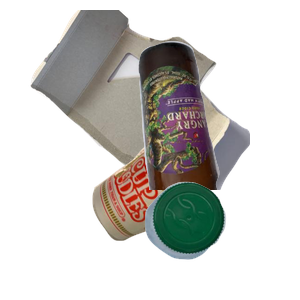glass: (136, 39, 300, 219)
paper: (28, 10, 268, 190)
plastic: (142, 179, 300, 300)
trash: (90, 129, 295, 300)
